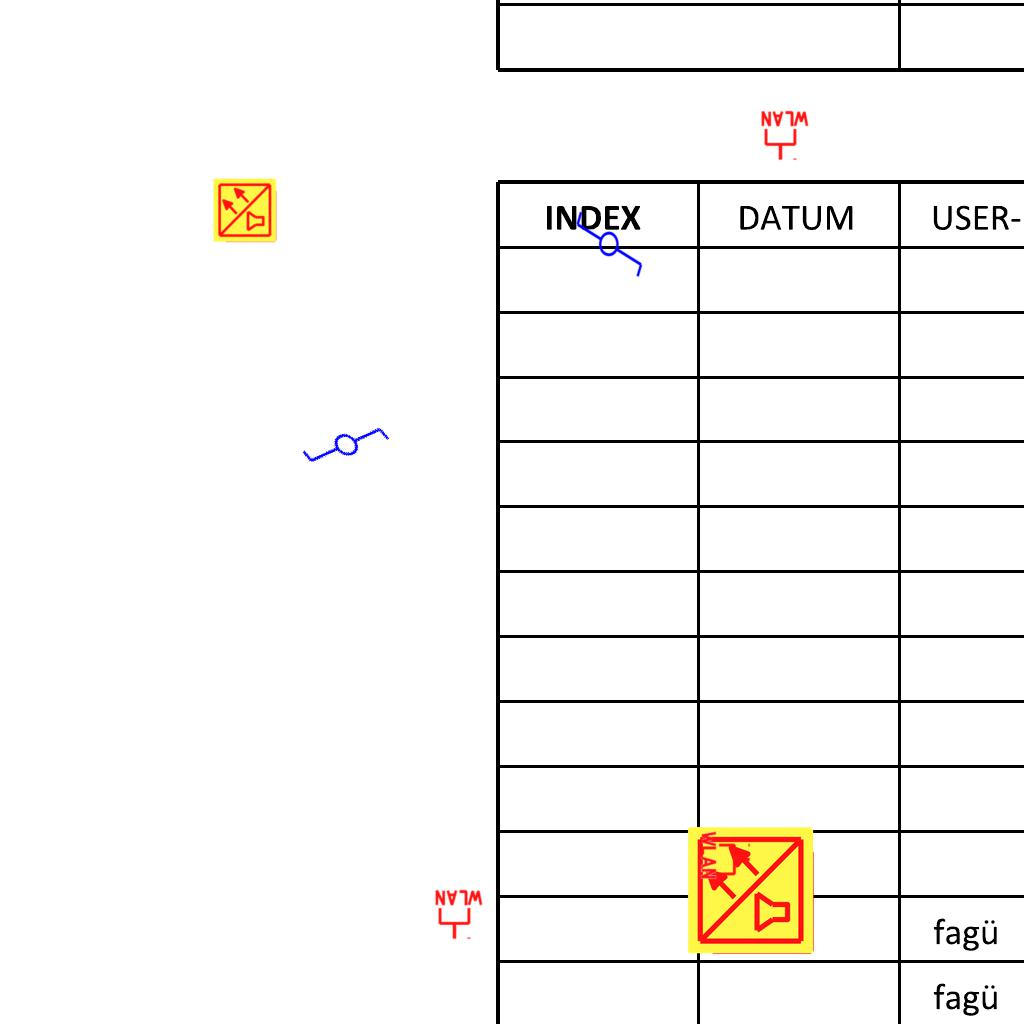OKW_Multisensormelder_(Kombination_optischer_Rauch-Kahlenmonoxid_Waerme-Melder): (685, 824, 817, 956), (212, 177, 278, 243)
WLAN: (433, 889, 485, 941), (759, 110, 811, 162), (700, 829, 752, 881)
Wechselschalter: (296, 396, 402, 500), (574, 201, 646, 279)
